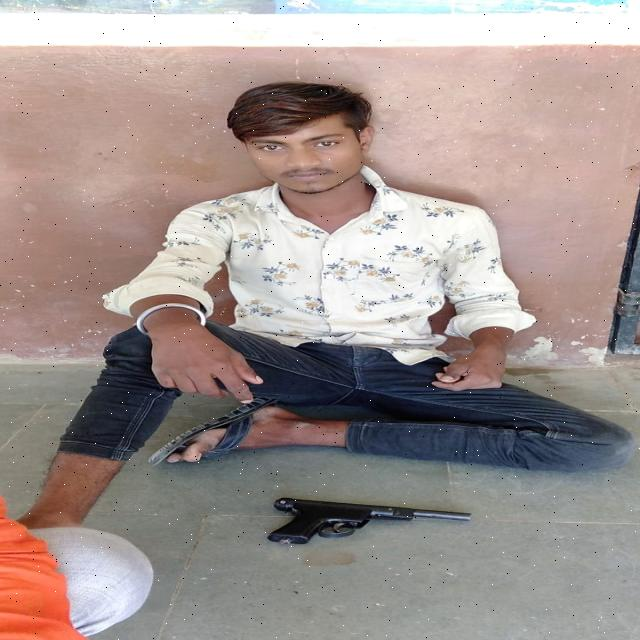gun: (228, 489, 494, 559)
